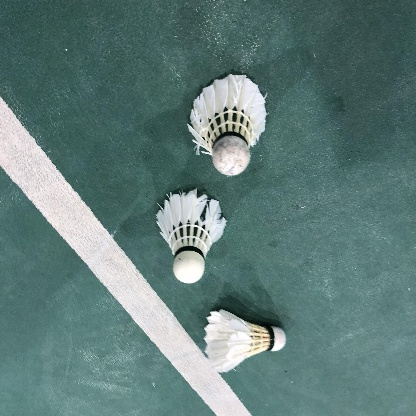ball_single: (187, 74, 267, 176), (156, 189, 227, 284), (204, 310, 286, 373)
